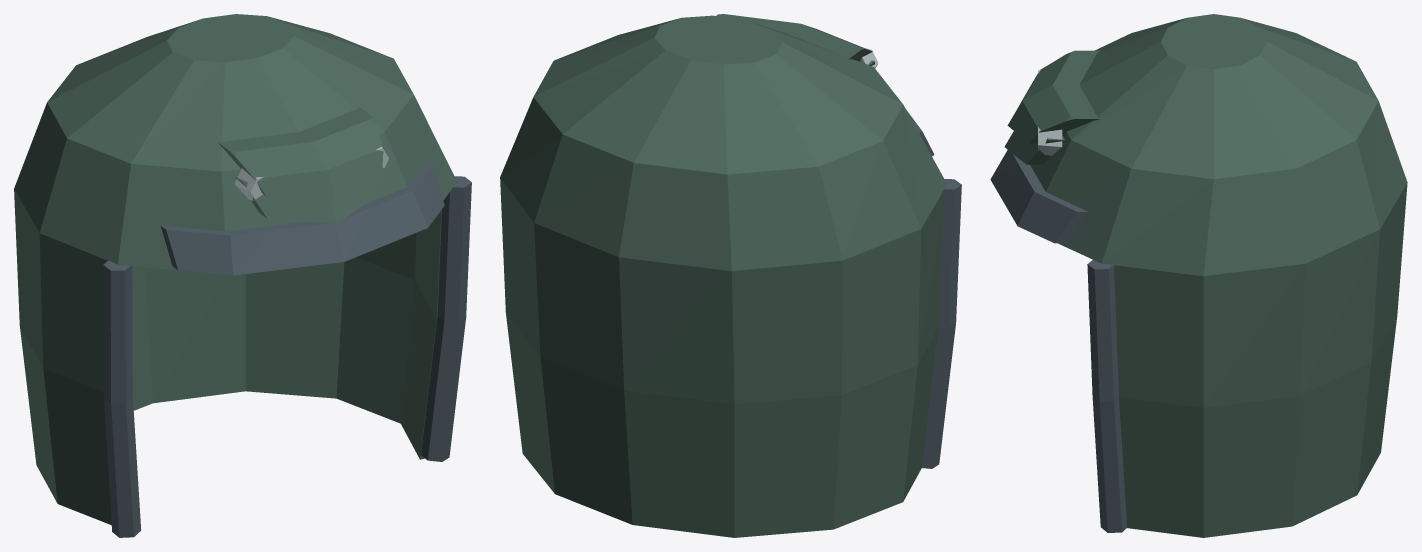
The model's file is studded_head-male-scaledHide.glb.
The picture shows the model from 3 angles, left to right: view 1: azimuth 30°, elevation 25°; view 2: azimuth 150°, elevation 25°; view 3: azimuth 270°, elevation 25°; orthographic projection. The views are drawn at different scales.
Visible parts, largest first — view 1: studded joined crown and nape guard, Fitted brow binding, Lapped hide reinforcement studded joined crown and nape guar (×2), Bound face opening -1, Bound face opening 1; view 2: studded joined crown and nape guard, Bound face opening -1, Lapped hide reinforcement studded joined crown and nape guar; view 3: studded joined crown and nape guard, Bound face opening 1, Lapped hide reinforcement studded joined crown and nape guar (×2), Fitted brow binding, Set rivet studded joined crown and nape guard 1.
Boxes of the visible parts, <box> form: studded joined crown and nape guard: <box>14,14,457,524</box>; Fitted brow binding: <box>160,161,444,275</box>; Lapped hide reinforcement studded joined crown and nape guar (×2): <box>217,107,385,223</box>; Bound face opening -1: <box>103,260,141,537</box>; Bound face opening 1: <box>421,176,471,461</box>; studded joined crown and nape guard: <box>500,15,946,537</box>; Bound face opening -1: <box>922,179,961,468</box>; Lapped hide reinforcement studded joined crown and nape guar: <box>716,14,872,61</box>; studded joined crown and nape guard: <box>1030,14,1407,537</box>; Bound face opening 1: <box>1087,260,1126,532</box>; Lapped hide reinforcement studded joined crown and nape guar (×2): <box>1004,50,1100,164</box>; Fitted brow binding: <box>990,150,1088,243</box>; Set rivet studded joined crown and nape guard 1: <box>1038,127,1062,155</box>.
Size of the model in its own units: 1.09 by 1.12 by 1.02.
